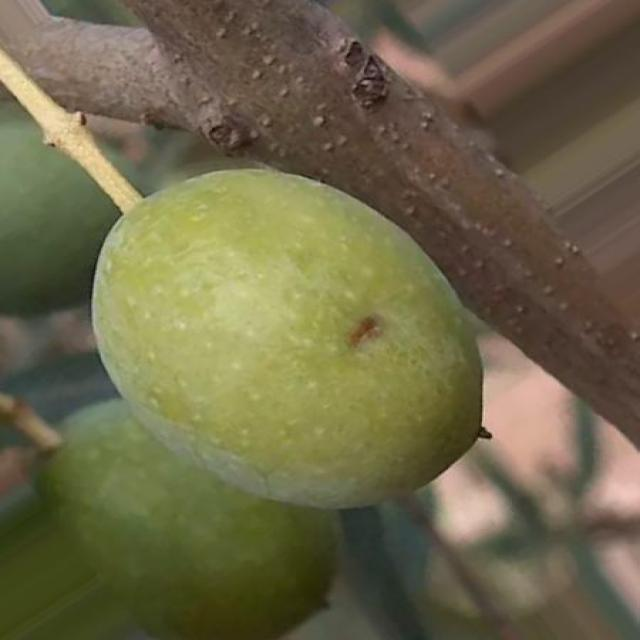Anthracnose: (96, 169, 480, 506)
